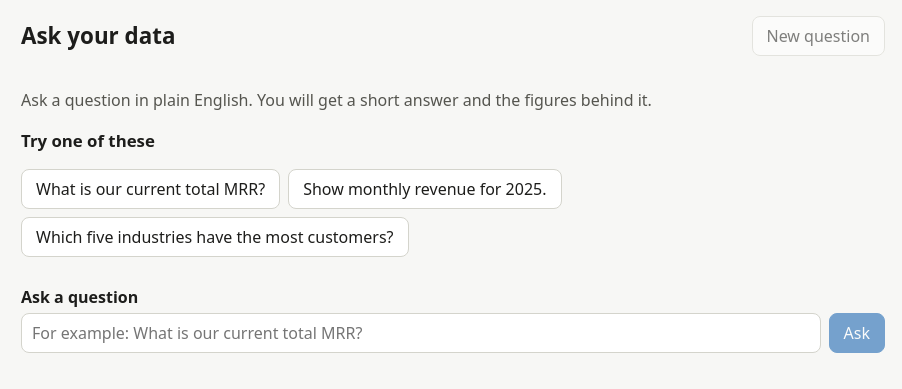
accessibility (axe) › an empty result with the thread of several answers has no violations
In the field labelled "Ask a question": (421, 333) x1=21 y1=313 x2=821 y2=353, type "Nothing here"
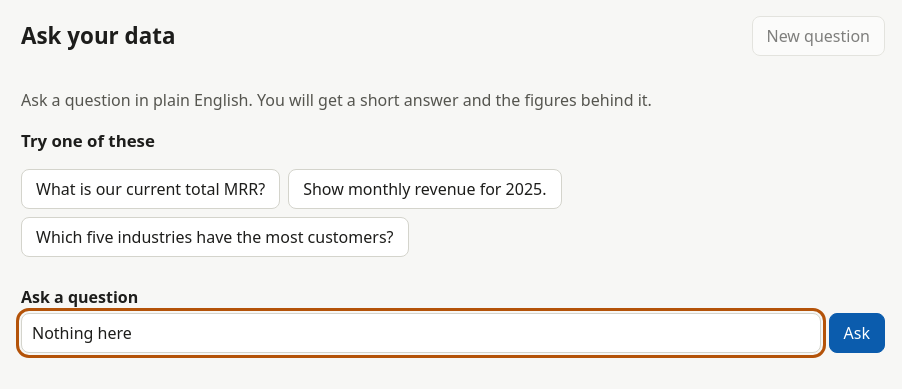
Click the button "Ask": (857, 333) x1=829 y1=313 x2=885 y2=353
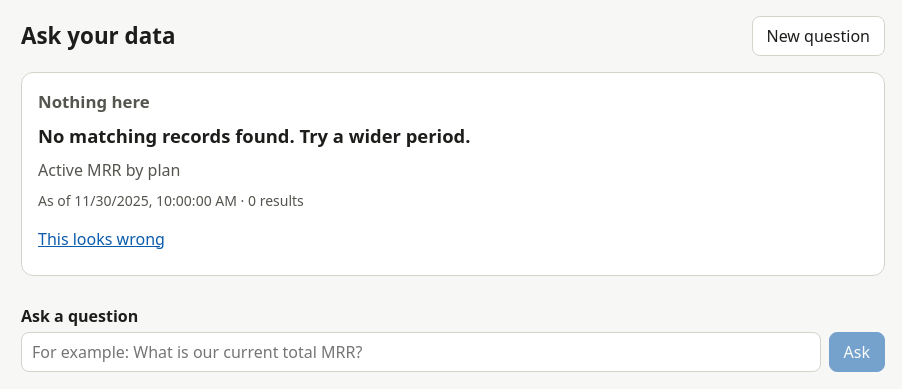
Now the text "No matching records found. Try a wider period." is shown, box x1=38 y1=123 x2=470 y2=148
